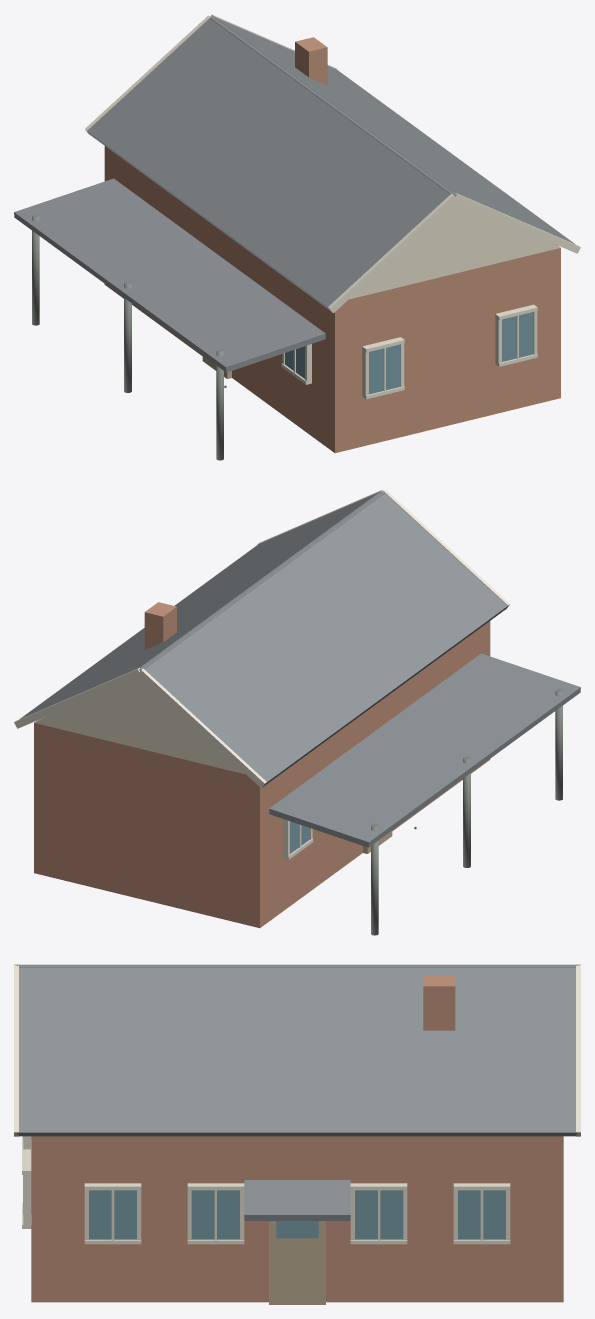
Rendered from rhine-station-interwar_lod0.glb.
3 renders of one model, top to bottom at view 1: azimuth 30°, elevation 25°; view 2: azimuth 150°, elevation 25°; view 3: azimuth 270°, elevation 25°, orthographic. The views are drawn at different scales.
Parts seen in each view (by area): view 1: RF_Roof.001, RF_Station_Body, RF_PlatformCanopy, RF_Roof, RF_Gable, RF_Vergeband.001, RF_Ridge, RF_Window.009, RF_Window, RF_StationChimney, RF_Vergeband.003, RF_CanopyColumn.001 (+3 smaller); view 2: RF_Roof.001, RF_Station_Body, RF_PlatformCanopy, RF_Roof, RF_Gable.001, RF_Vergeband.002, RF_Ridge, RF_StationChimney, RF_Vergeband, RF_CanopyColumn, RF_CanopyColumn.001, RF_CanopyColumn.002 (+1 smaller); view 3: RF_Roof, RF_Station_Body, RF_PublicAwning, RF_Station_Door, RF_Window.006, RF_Window.007, RF_Window.005, RF_Window.008, RF_StationChimney, RF_Ridge, RF_Roof.001, RF_Vergeband.003 (+6 smaller).
Part boxes in pixels (<box>): RF_Roof.001: <box>87,17,451,311</box>; RF_Station_Body: <box>104,146,560,453</box>; RF_PlatformCanopy: <box>14,178,325,372</box>; RF_Roof: <box>214,17,575,244</box>; RF_Gable: <box>349,201,560,299</box>; RF_Vergeband.001: <box>328,193,456,313</box>; RF_Ridge: <box>210,16,455,195</box>; RF_Window.009: <box>369,344,400,394</box>; RF_Window: <box>502,312,533,361</box>; RF_StationChimney: <box>295,37,327,85</box>; RF_Vergeband.003: <box>455,192,580,253</box>; RF_CanopyColumn.001: <box>216,348,223,460</box>; RF_Roof.001: <box>143,492,507,786</box>; RF_Station_Body: <box>34,621,490,928</box>; RF_PlatformCanopy: <box>269,653,580,847</box>; RF_Roof: <box>19,491,381,719</box>; RF_Gable.001: <box>34,676,245,774</box>; RF_Vergeband.002: <box>138,668,266,788</box>; RF_Ridge: <box>139,491,384,670</box>; RF_StationChimney: <box>144,602,176,649</box>; RF_Vergeband: <box>14,667,139,728</box>; RF_CanopyColumn: <box>371,823,378,935</box>; RF_CanopyColumn.001: <box>555,688,562,800</box>; RF_CanopyColumn.002: <box>463,756,470,867</box>; RF_Roof: <box>17,966,577,1136</box>; RF_Station_Body: <box>31,1136,563,1302</box>; RF_PublicAwning: <box>244,1180,350,1220</box>; RF_Station_Door: <box>269,1221,325,1304</box>; RF_Window.006: <box>191,1190,239,1239</box>; RF_Window.007: <box>355,1190,403,1239</box>; RF_Window.005: <box>89,1190,136,1239</box>; RF_Window.008: <box>458,1190,505,1239</box>; RF_StationChimney: <box>423,976,455,1030</box>; RF_Ridge: <box>16,965,578,967</box>; RF_Roof.001: <box>19,964,575,965</box>; RF_Vergeband.003: <box>14,966,18,1136</box>.
Size of the model in its own units: 14.11 by 8.7 by 15.98.
